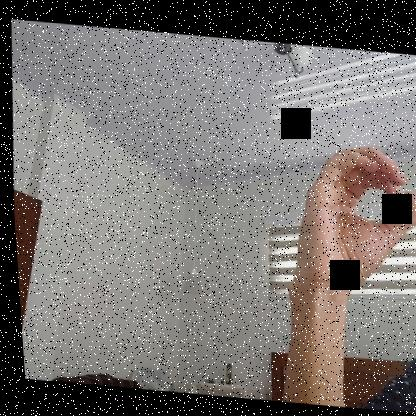O: (281, 134, 415, 301)
